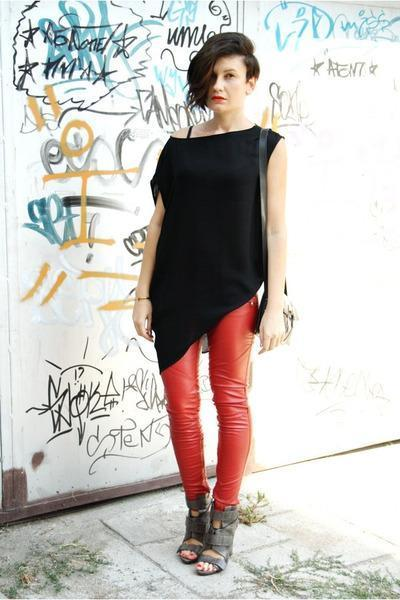bag: (250, 132, 277, 333)
dress: (146, 125, 284, 371)
pants: (160, 296, 257, 508)
shoe: (176, 494, 236, 575)
